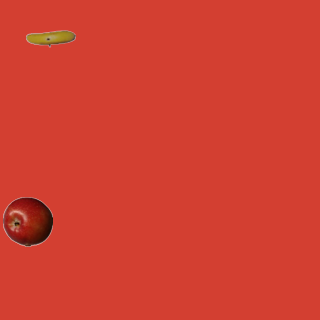Apple Braeburn: (2, 196, 52, 246)
Banana: (25, 13, 75, 63)
